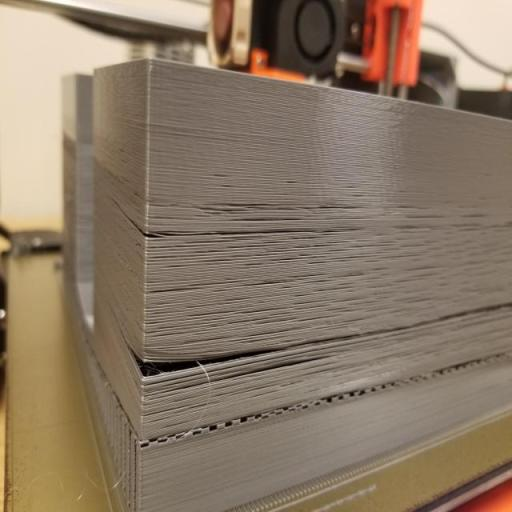cracks: (103, 184, 357, 261), (106, 308, 347, 388)
